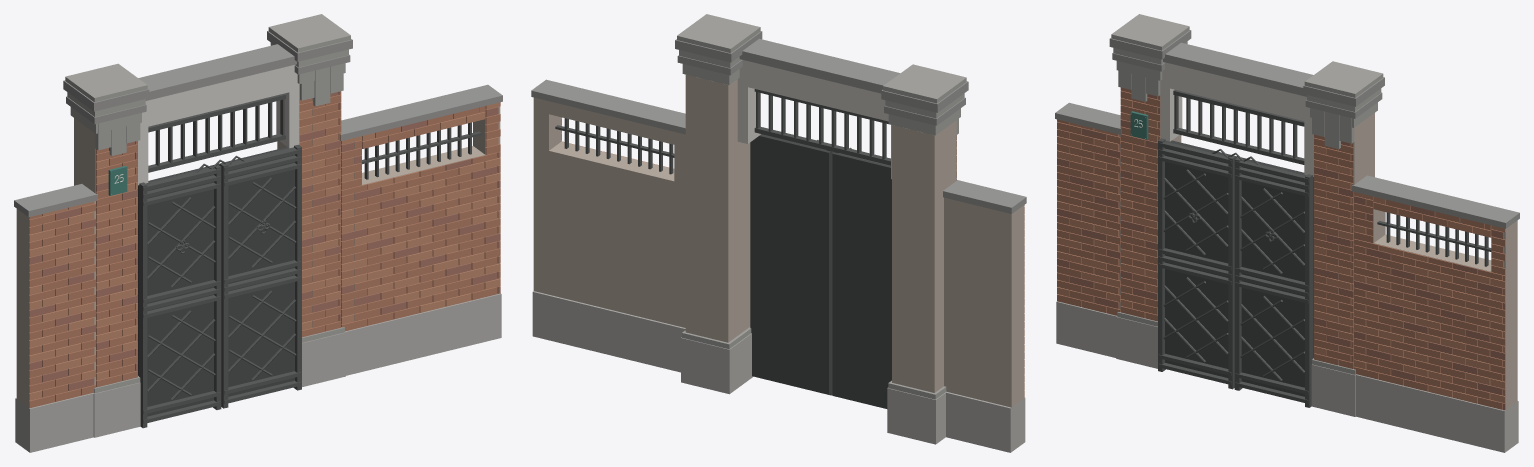
The model's file is jingan-villa-no25-raw.glb.
The picture shows the model from 3 angles, left to right: view 1: azimuth 30°, elevation 25°; view 2: azimuth 150°, elevation 25°; view 3: azimuth 330°, elevation 25°; orthographic projection. The views are drawn at different scales.
Visible parts, largest first — view 1: 静安别墅25号院门与弄面院墙; view 2: 静安别墅25号院门与弄面院墙; view 3: 静安别墅25号院门与弄面院墙.
Part boxes in pixels (x1,y1,x2,y2): 静安别墅25号院门与弄面院墙: (14, 14, 502, 452); 静安别墅25号院门与弄面院墙: (531, 14, 1026, 452); 静安别墅25号院门与弄面院墙: (1055, 14, 1519, 452).
Bounding box in the file's own units: 4.4 × 3.04 × 0.495.
